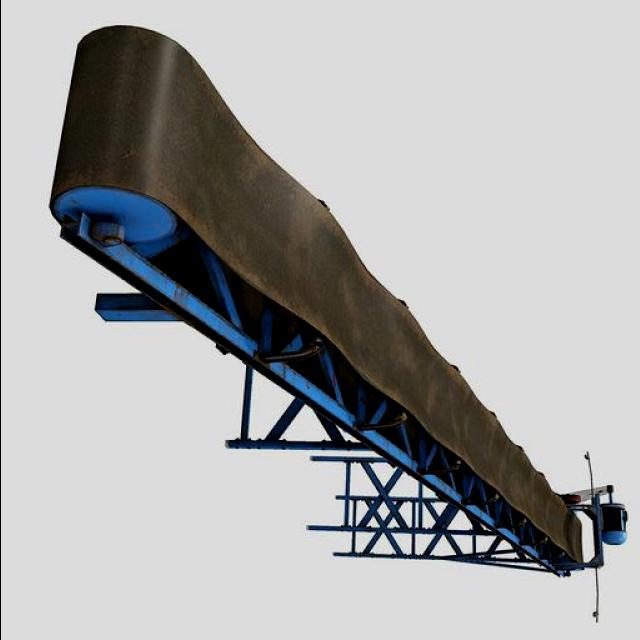conveyor: (47, 23, 566, 563)
